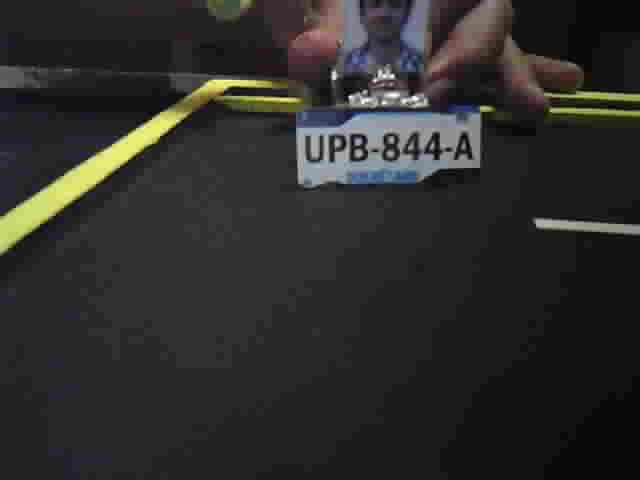PLACA: (293, 104, 483, 191)
ROSTRO: (344, 1, 423, 72)
